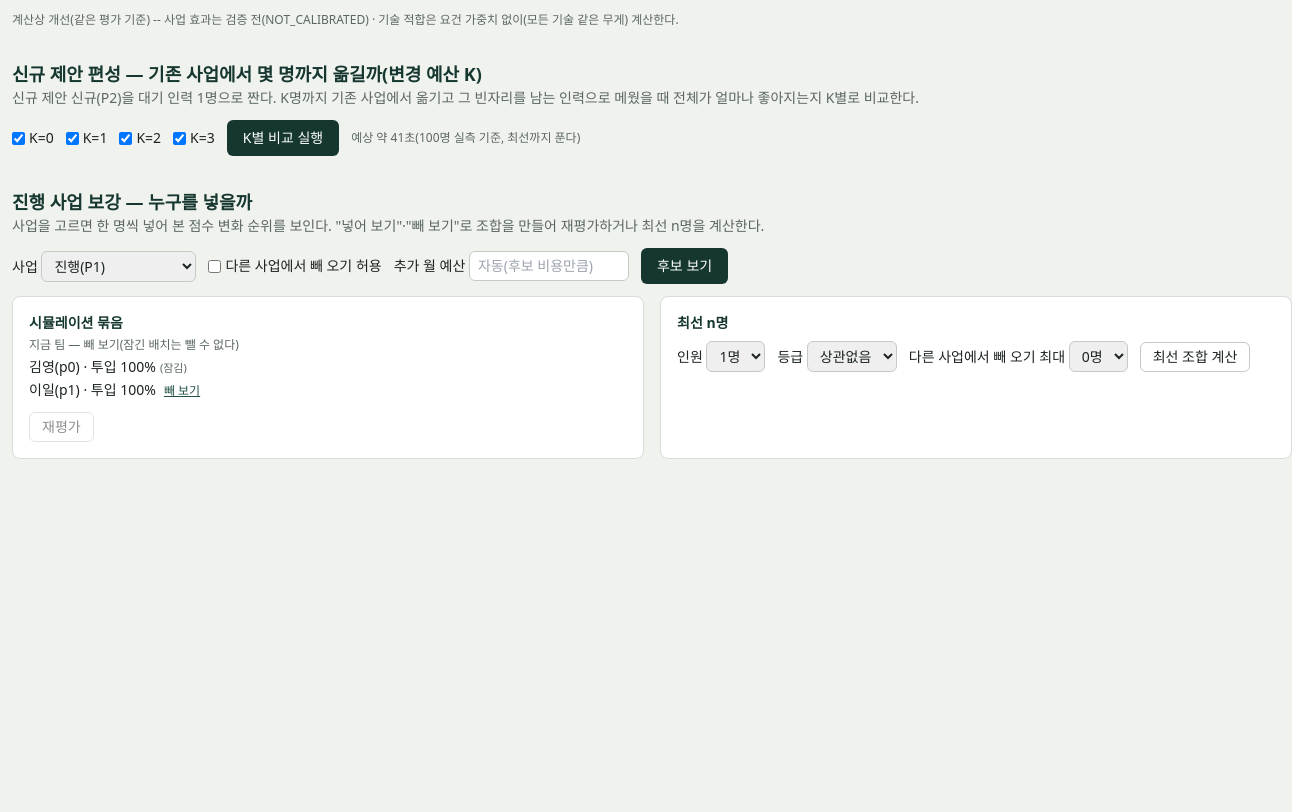
Test: OperatingTab › K별 비교: 빈자리와 배치 품질을 나눠 보이고 이동 그림을 그린다
Click the button "K별 비교 실행": x=283, y=138 x1=227 y1=120 x2=339 y2=156
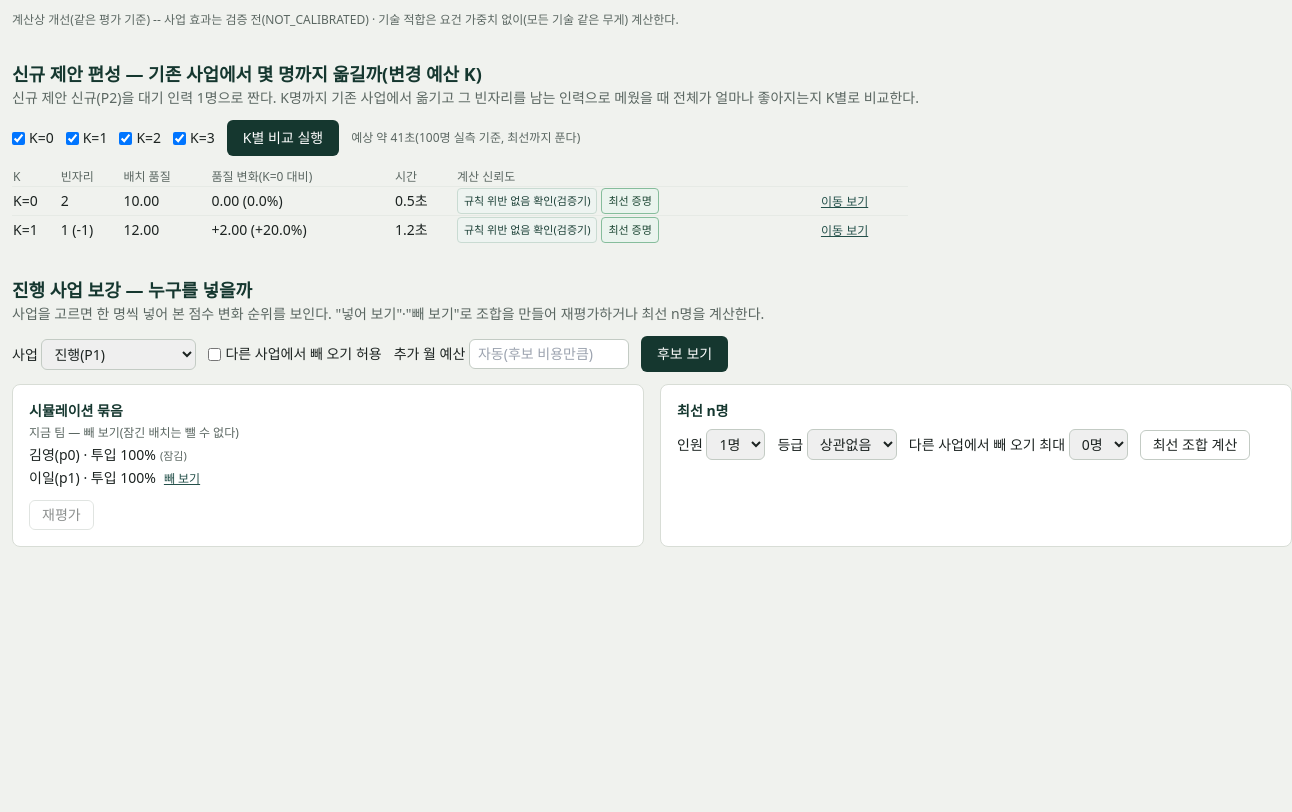
Expected: the text "+2.00 (+20.0%)" is shown, x1=210 y1=216 x2=394 y2=244
Expected: the text "1 (-1)" is shown, x1=60 y1=216 x2=122 y2=244
Click the button with aria-label "K=1 이동 보기": x=845, y=231 x1=821 y1=223 x2=868 y2=239
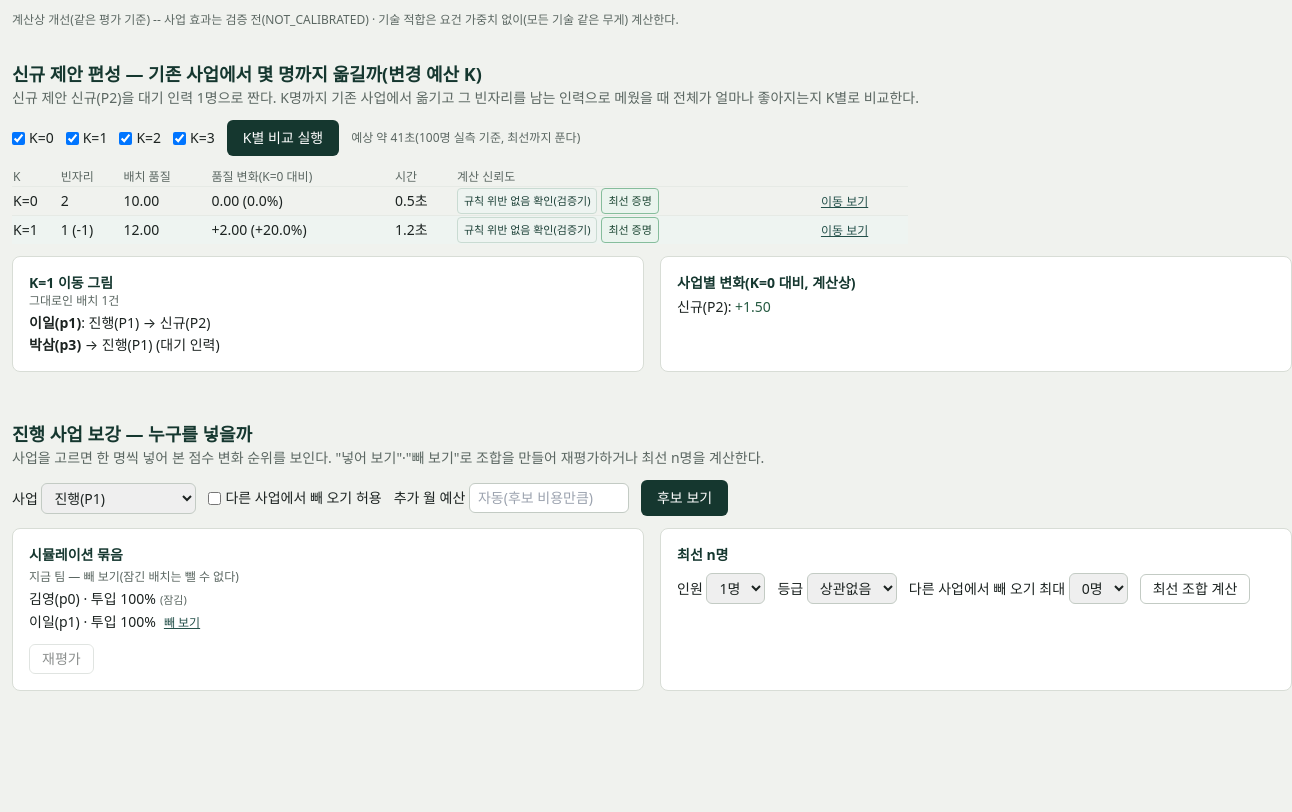
Expected: the list item "이일(p1): 진행(P1) → 신규(P2)" is shown, x1=29 y1=313 x2=210 y2=332
Expected: the list item "박삼(p3) → 진행(P1) (대기 인력)" is shown, x1=29 y1=335 x2=220 y2=354
Expected: the text "+1.50" is shown, x1=735 y1=297 x2=771 y2=316
